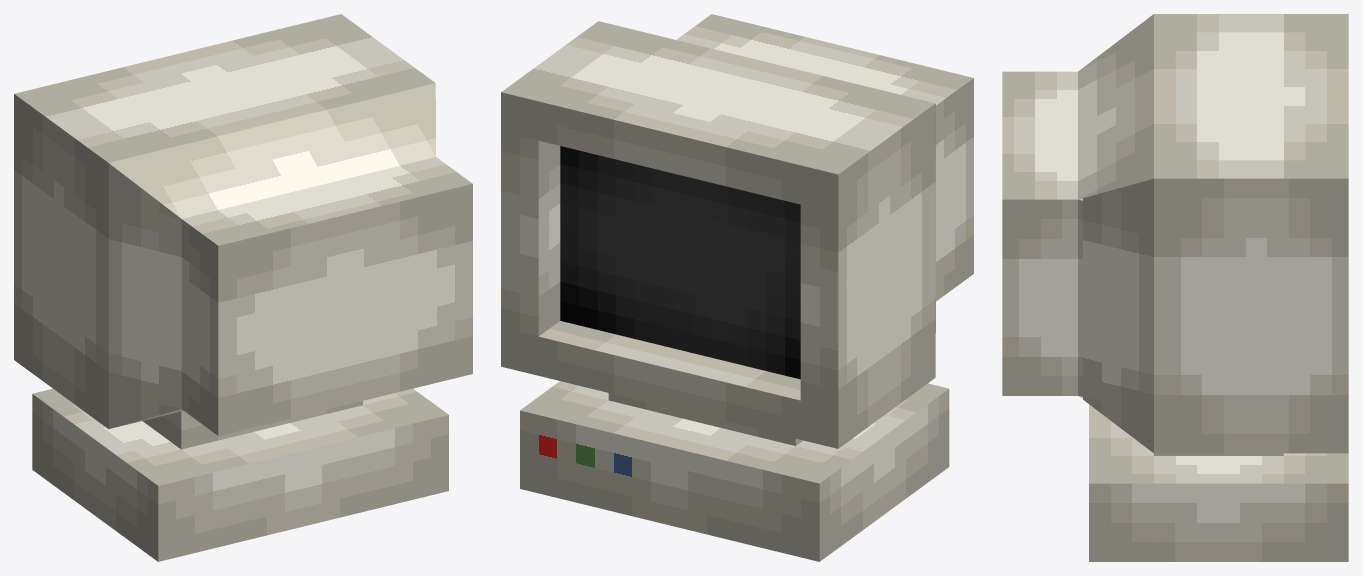
Rendered from simple_pc_retro.glb.
3 renders of one model, left to right at view 1: azimuth 30°, elevation 25°; view 2: azimuth 150°, elevation 25°; view 3: azimuth 270°, elevation 25°, orthographic. The views are drawn at different scales.
Visible parts, largest first — view 1: Object_5, Object_7, Object_9; view 2: Object_5, Object_7, Object_9; view 3: Object_5, Object_7.
Part boxes in pixels (box(x1,y1,x2,y2)): Object_5: box(14, 14, 472, 435); Object_7: box(32, 388, 448, 561); Object_9: box(142, 401, 362, 449); Object_5: box(501, 14, 973, 448); Object_7: box(520, 381, 949, 561); Object_9: box(608, 393, 803, 445); Object_5: box(1002, 14, 1348, 453); Object_7: box(1089, 404, 1348, 561).
Size of the model in its own units: 1.12 by 1.25 by 1.
1 material, 1 textured.
